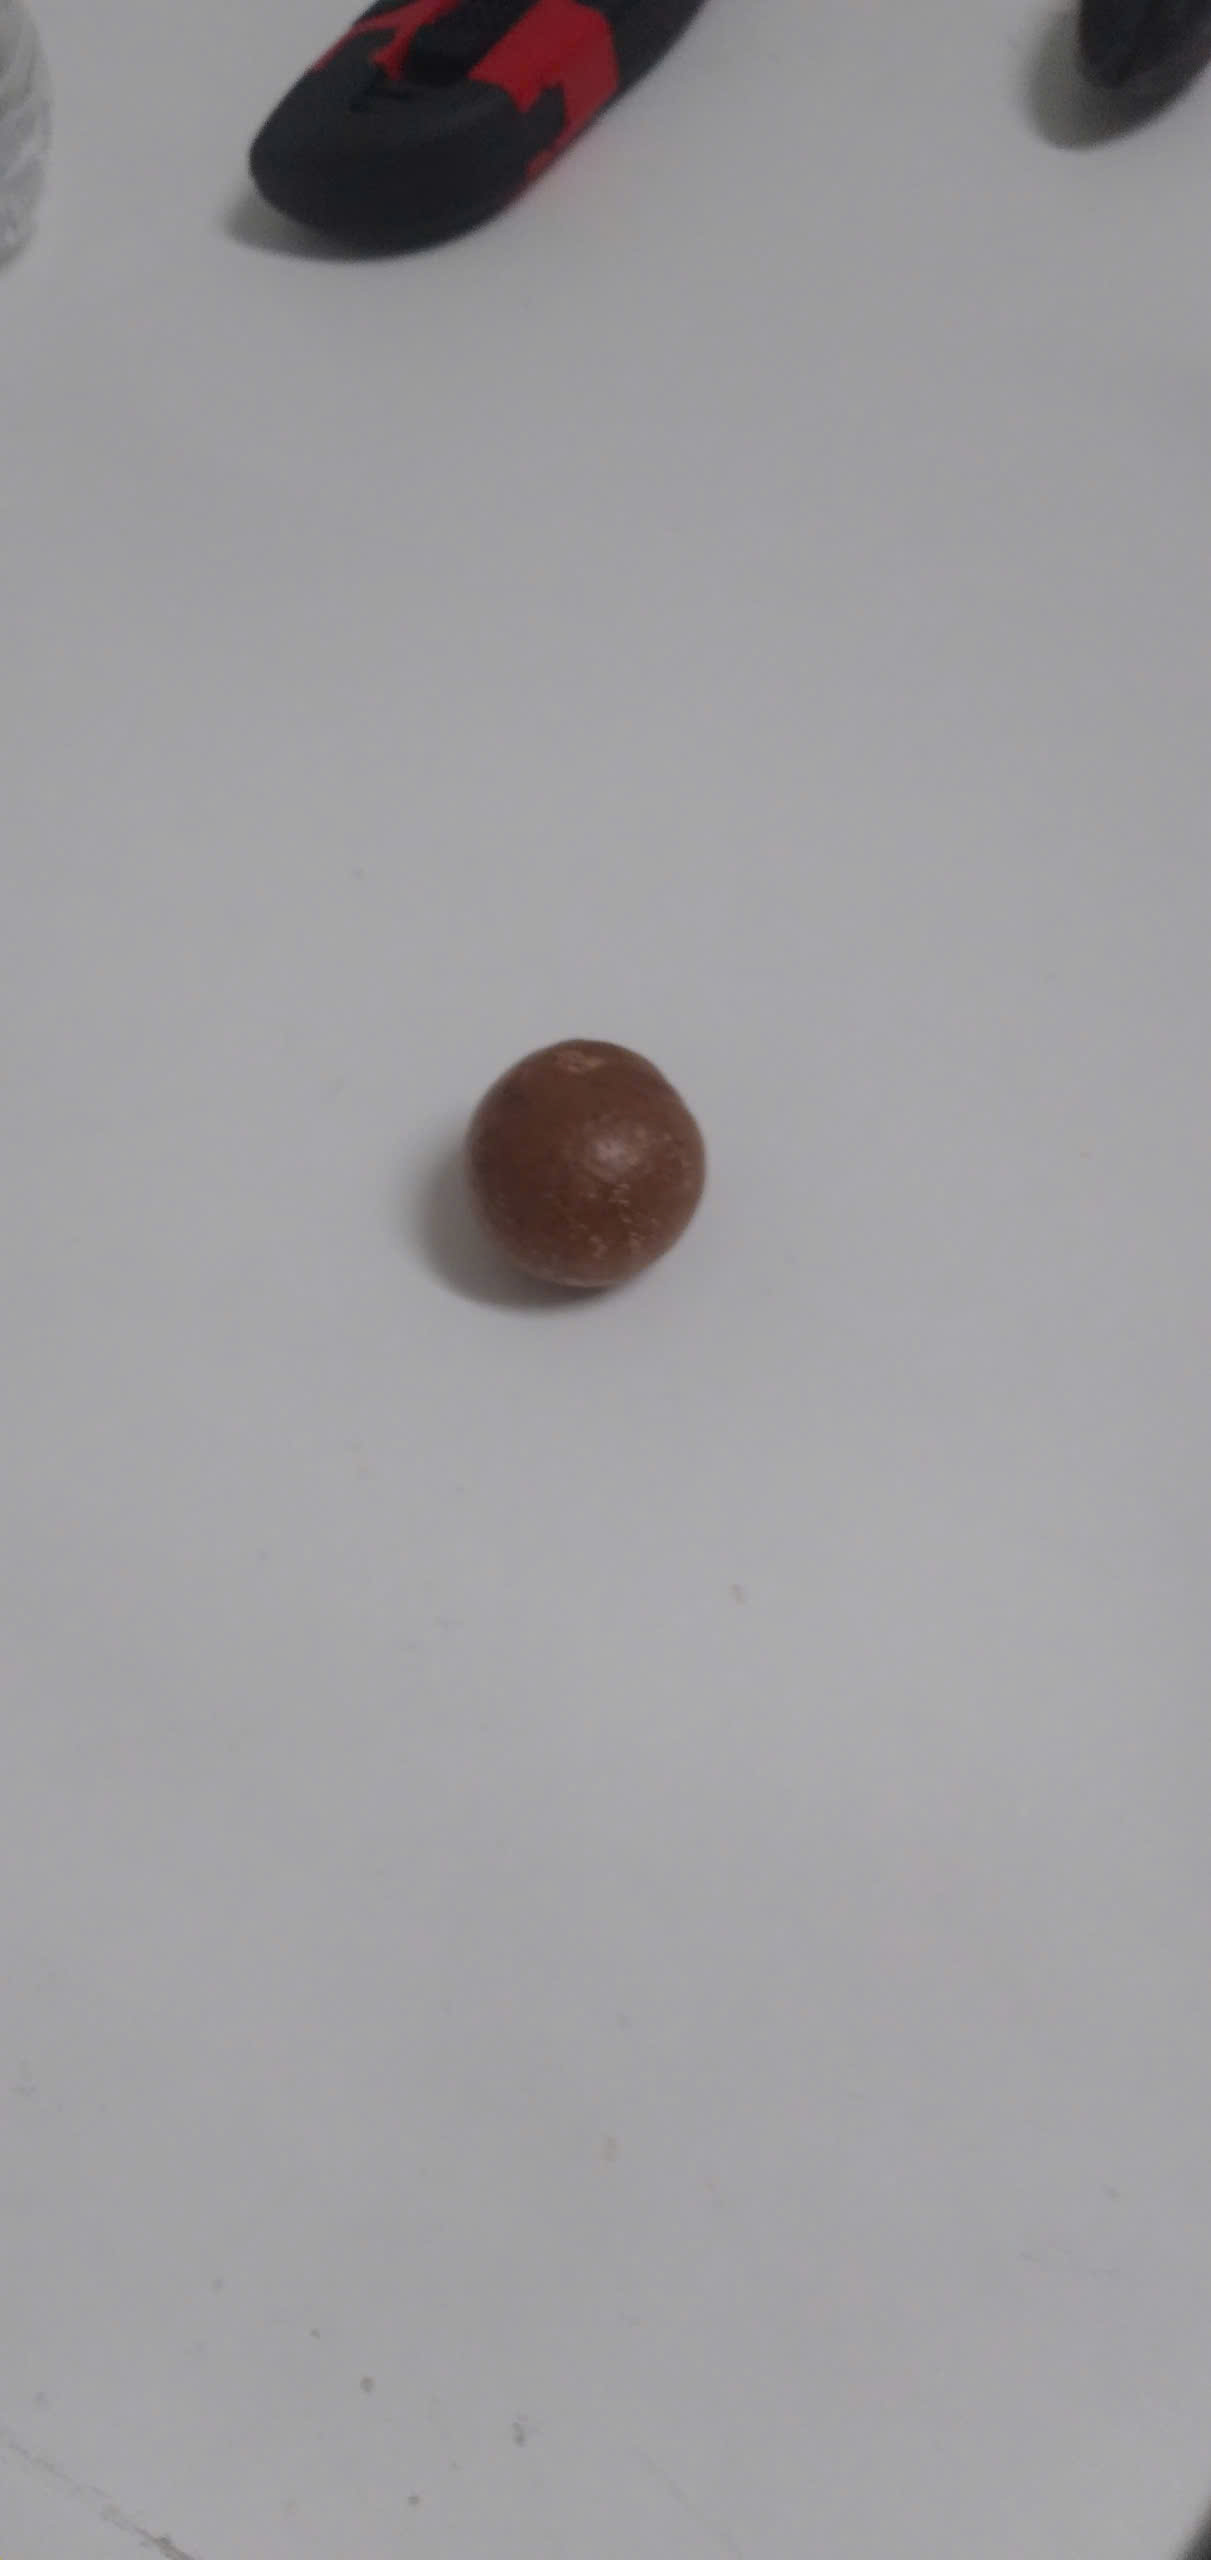mac: (462, 1037, 708, 1290)
